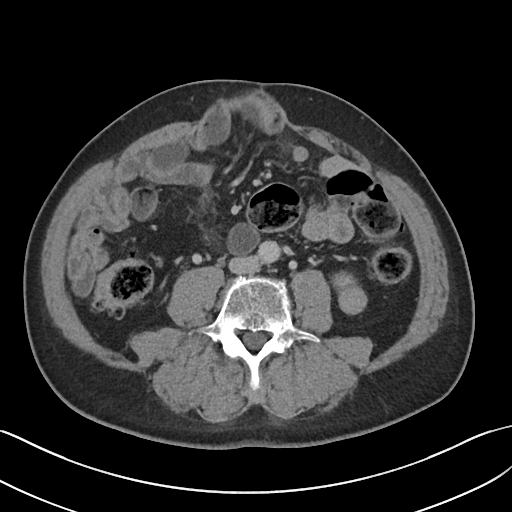Lesion: (335, 287, 369, 317)
